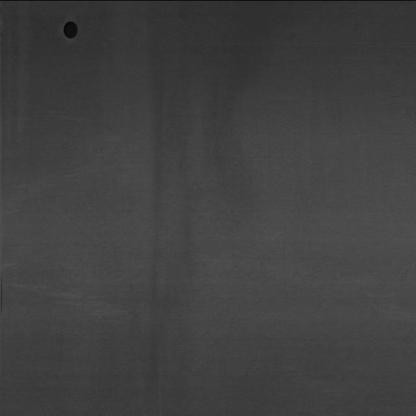punching_hole: (58, 18, 82, 40)
